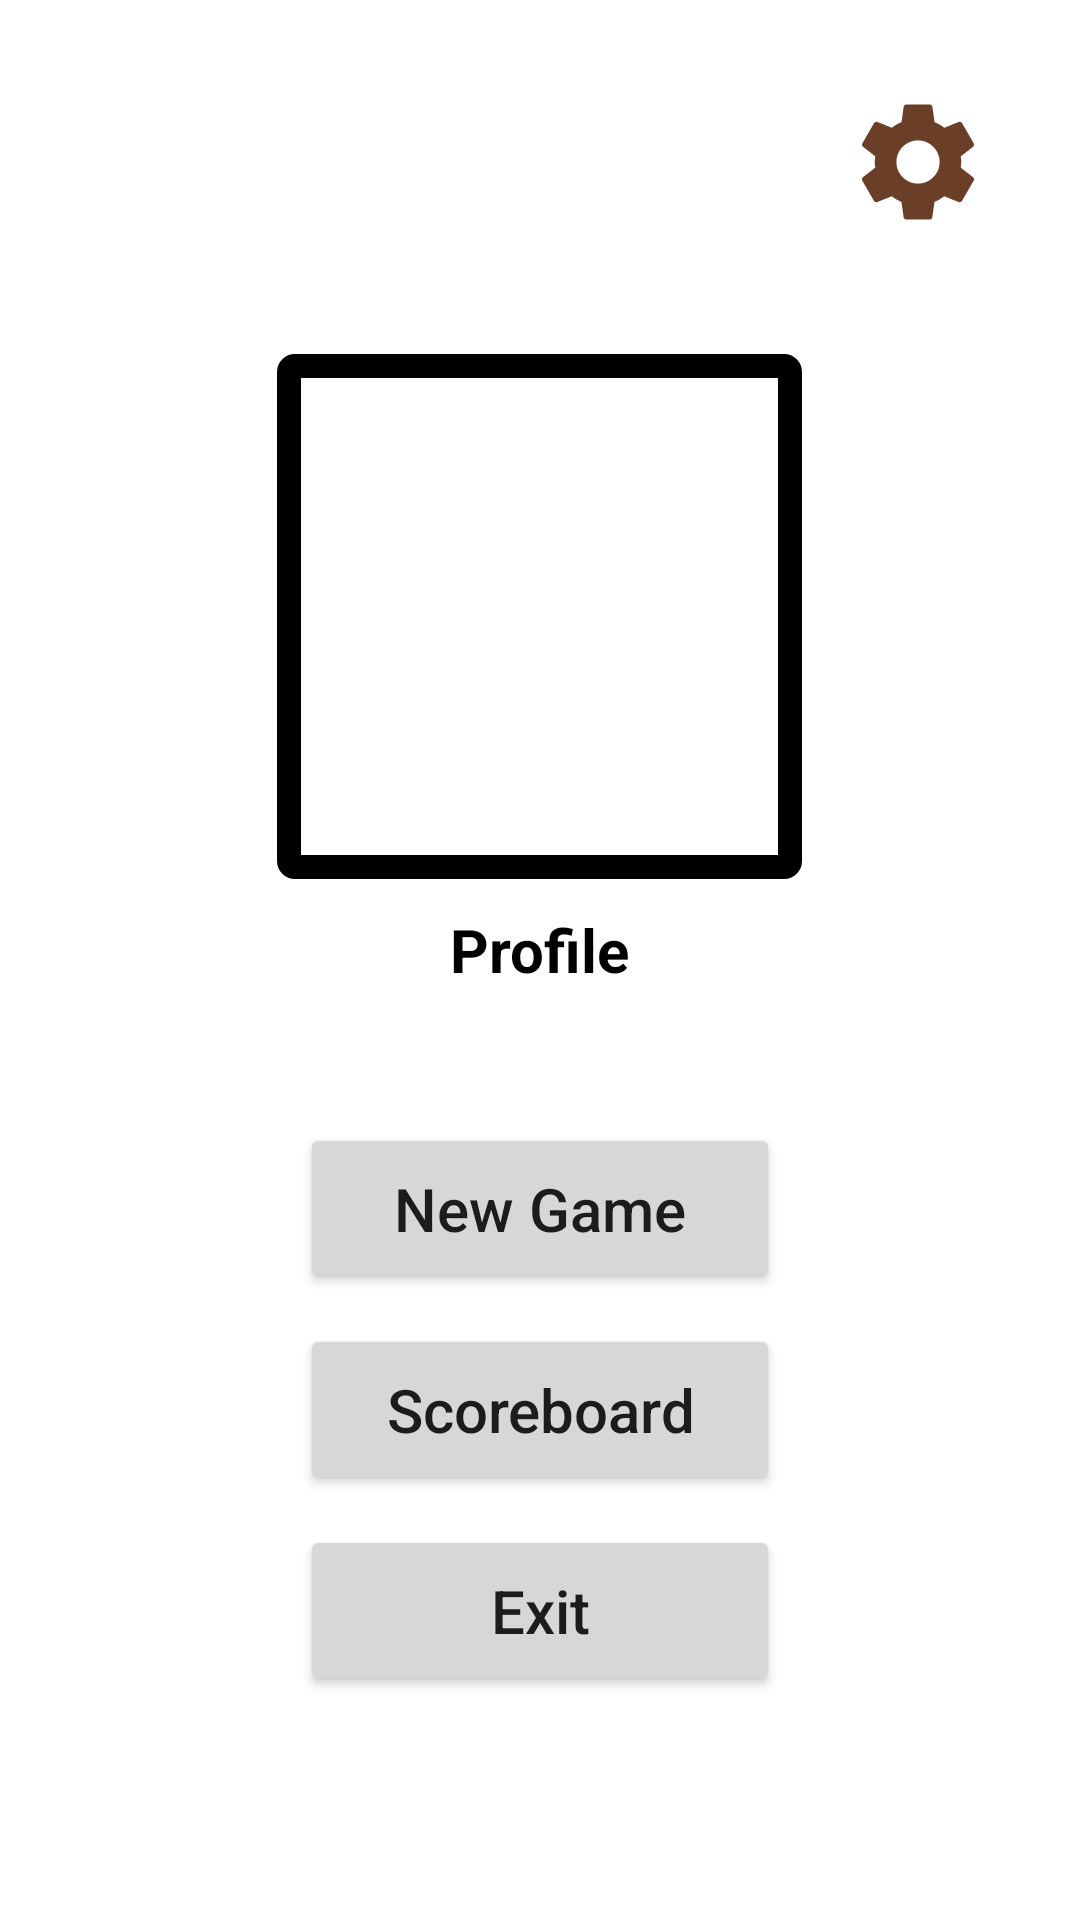

Icon bounding boxes for this 1080×1920 phone screenshot, format region(x1, y1, x2, y2):
opcoes: region(862, 104, 974, 220)
